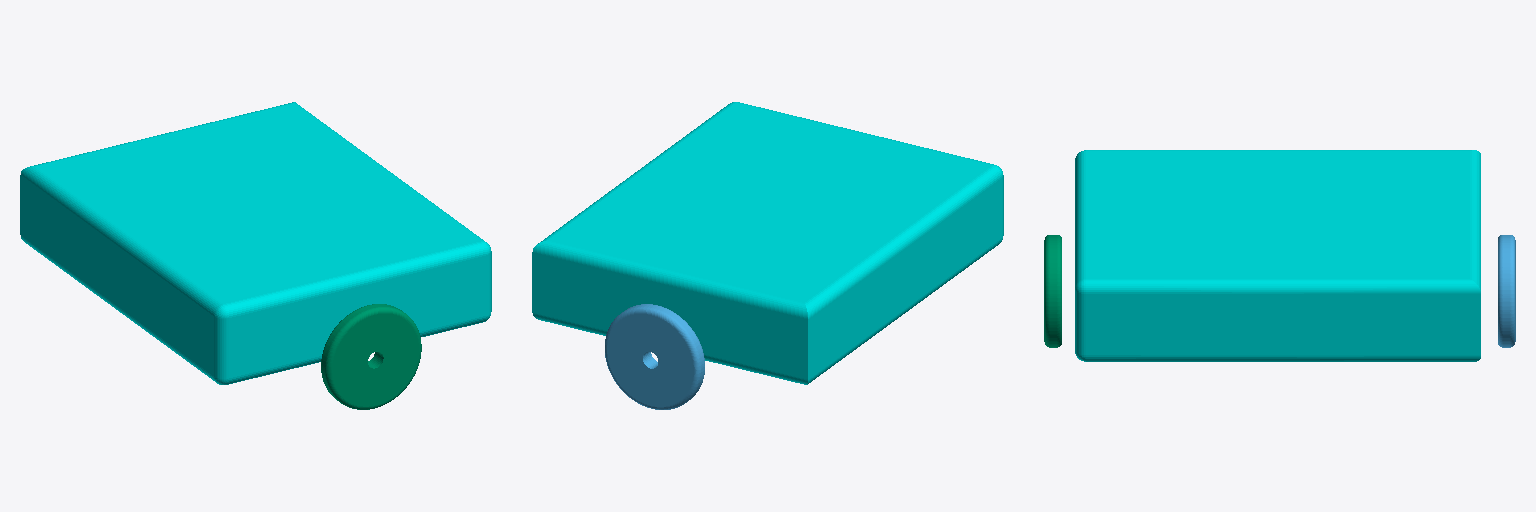
robot.urdf — agv:
<robot name="agv">

	<!-- * * * Link Definitions * * * -->

 	<link name="base_link">
		<visual>
		    <origin rpy="0 0 0" xyz="0 0 -0.06"/>
          <axis xyz="0 0 0" />
			<geometry>
                <mesh filename="package://agv_ver_1/urdf/meshes/base_final.STL"/>
			</geometry>
			<material name="c">
	       		<color rgba="0 0.9 0.9 1.0"/>
	     	</material>
		</visual>	
	</link>
	<link name="left_wheel">
		<visual>
          
          <origin xyz="0 0.255 0" rpy="0 0 0"/>
          <geometry>
            <!--<cylinder length="0.04" radius="0.0635"/>-->
            <mesh filename="package://agv_ver_1/urdf/meshes/wheel_final.STL"/>


          </geometry>
		</visual>
	</link>
	<joint name="left_wheel_joint" type="continuous">
      	<origin xyz="0 0 0" rpy="0 0 0"/>
     	<parent link = "base_link"/>
      	<child  link = "left_wheel"/>
        <axis xyz="0 1 0"/>
	</joint>
	<link name="right_wheel">
		<visual>
          
          <origin xyz="0 -0.255 0" rpy="0 0 0"/>
          <geometry>
            <!-- <cylinder length="0.04" radius="0.0635"/> -->
            <mesh filename="package://agv_ver_1/urdf/meshes/wheel_final.STL"/>
          </geometry>
		</visual>
	</link>
	<joint name="right_wheel_joint" type="continuous">
      	<origin xyz="0 0 0" rpy="0 0 0"/>
     	<parent link = "base_link"/>
      	<child  link = "right_wheel"/>
        <axis xyz="0 1 0"/>
	</joint>


</robot>

--- What the picture shows (computed from the rendered views, not written in the file) ---
The picture shows the robot from 3 angles, left to right: view 1: azimuth 30°, elevation 25°; view 2: azimuth 150°, elevation 25°; view 3: azimuth 270°, elevation 25°; orthographic projection.
Robot: agv — 3 links, 2 joints (2 continuous); root link base_link; default pose: all joints at 0.
Visible links, largest first — view 1: base_link, right_wheel; view 2: base_link, left_wheel; view 3: base_link, left_wheel, right_wheel.
Boxes of the visible links, box(x1,y1,x2,y2) form: base_link: box(20, 102, 491, 384); right_wheel: box(321, 304, 421, 409); base_link: box(532, 102, 1003, 384); left_wheel: box(605, 304, 704, 409); base_link: box(1075, 150, 1480, 361); left_wheel: box(1498, 235, 1515, 347); right_wheel: box(1044, 235, 1061, 347).
Size in the robot's own frame: 0.3658 by 0.53 by 0.156 metres.
Meshes: 2 distinct files referenced, 3 mesh visuals loaded (2 binary STL).